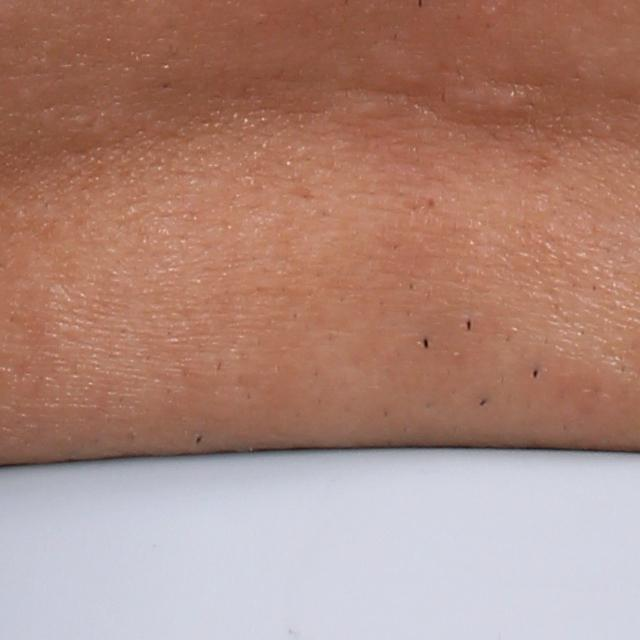hypertrophic_scar: (436, 70, 548, 117)
